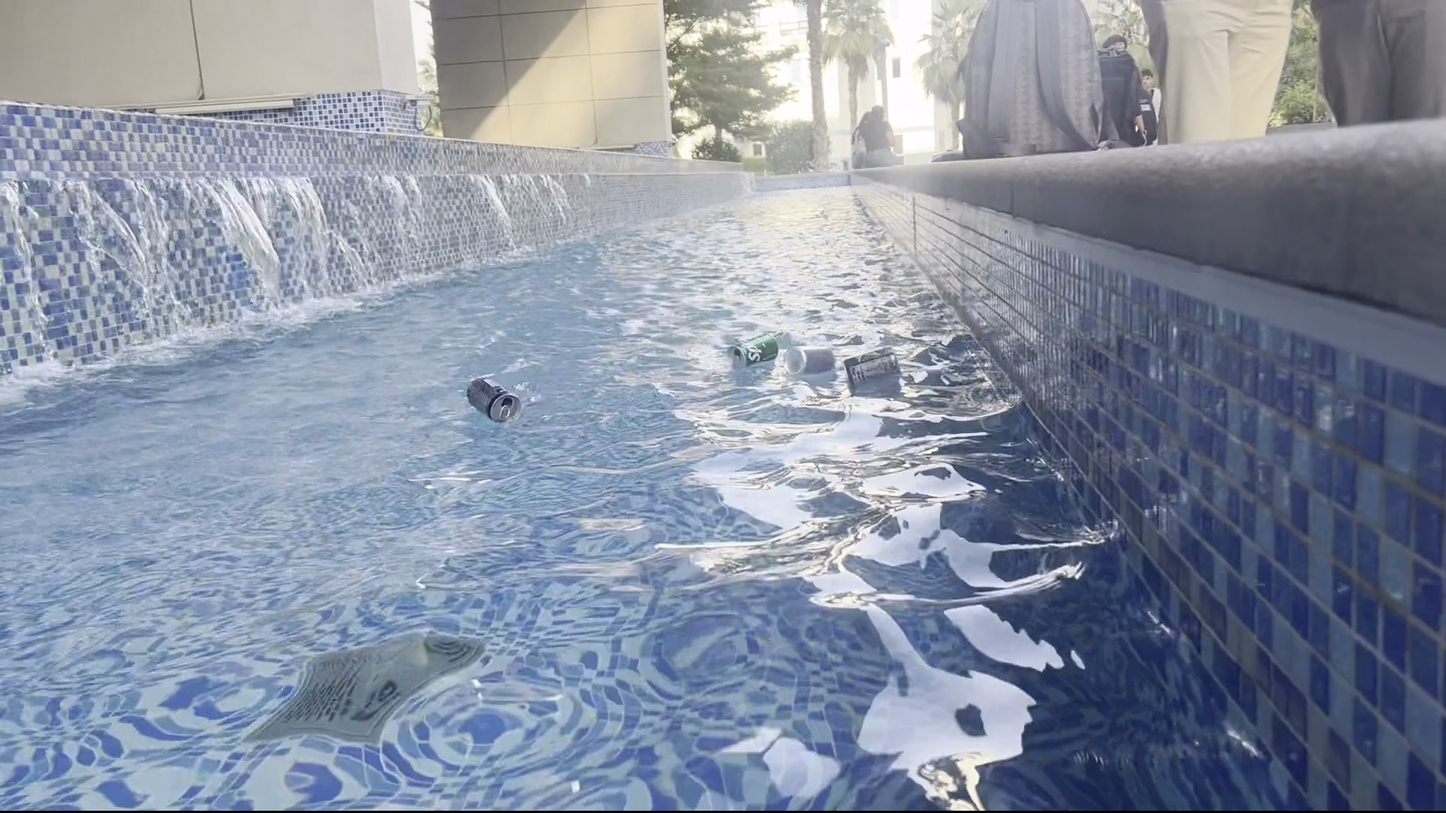debris: (464, 371, 523, 426), (841, 343, 902, 386), (725, 327, 778, 371), (780, 340, 839, 379)
